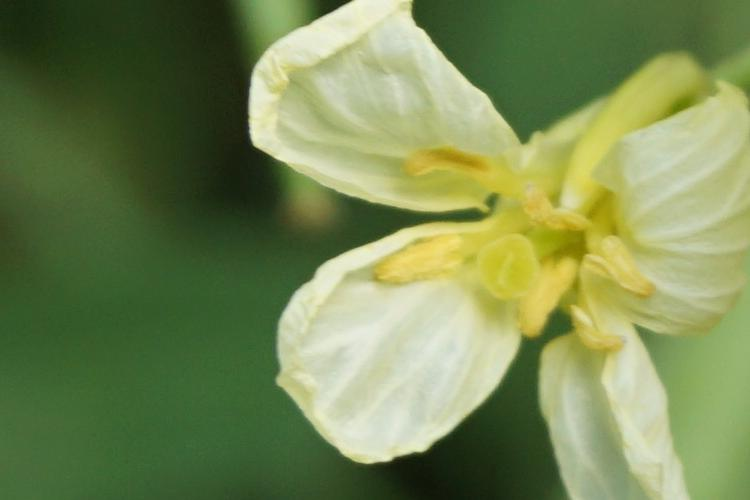white: (239, 24, 726, 488)
